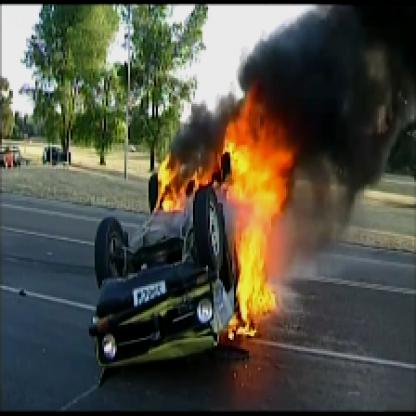Fire: (148, 89, 344, 344)
